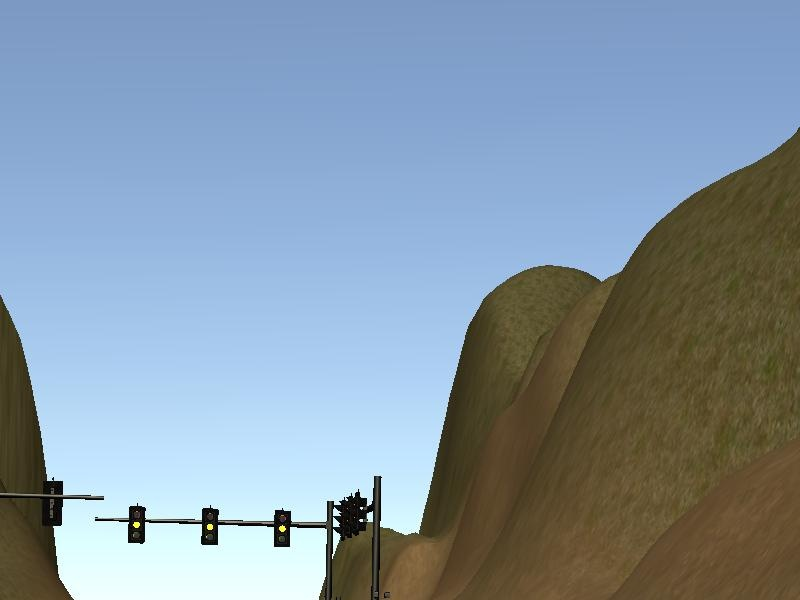yellow: (269, 507, 291, 549), (126, 501, 145, 546), (200, 506, 220, 548)
